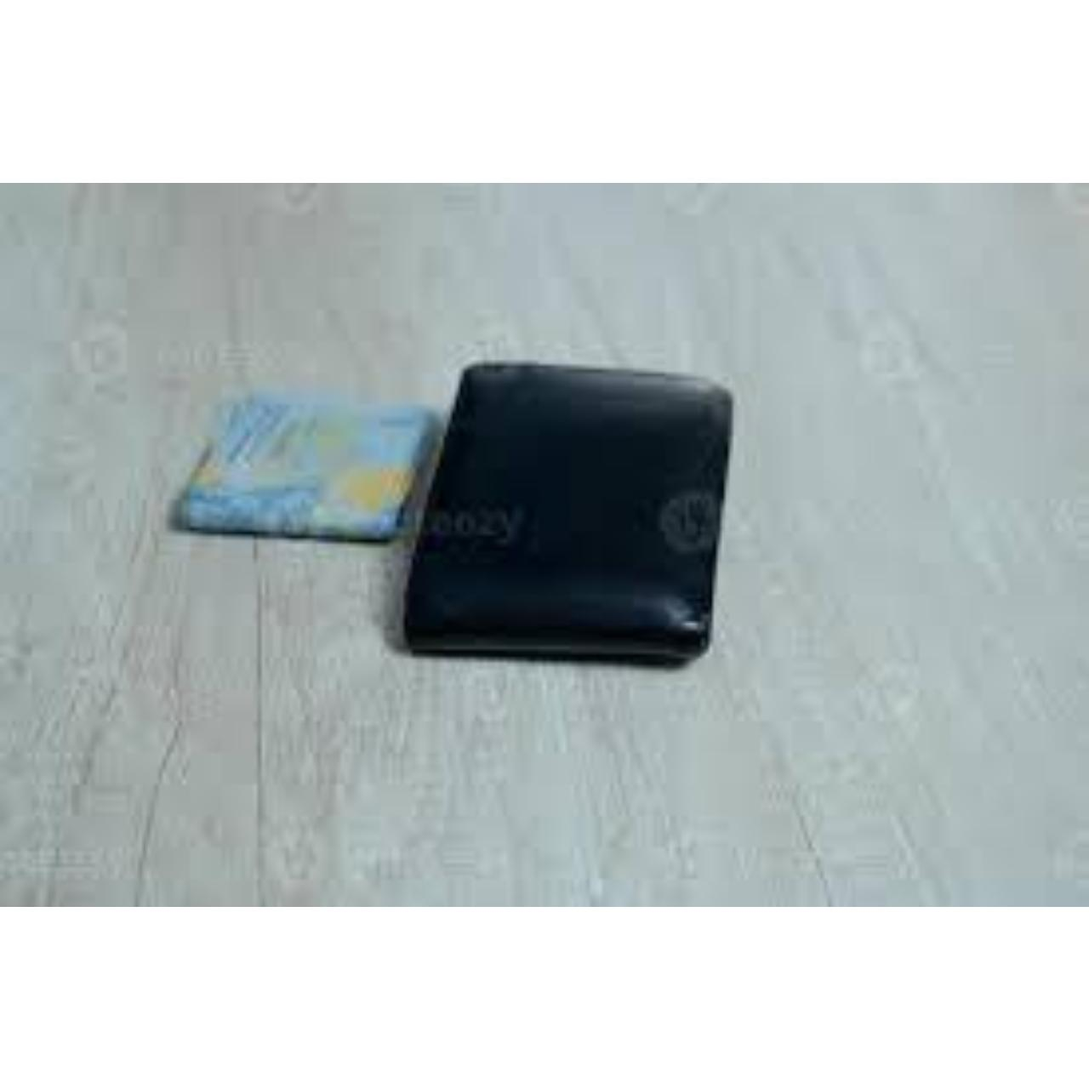wallet: (401, 325, 792, 673)
